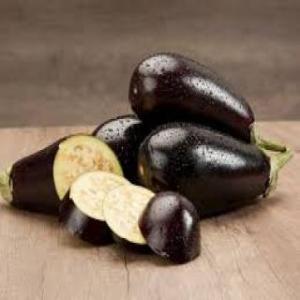eggplant: (136, 124, 274, 216), (128, 48, 255, 144)
